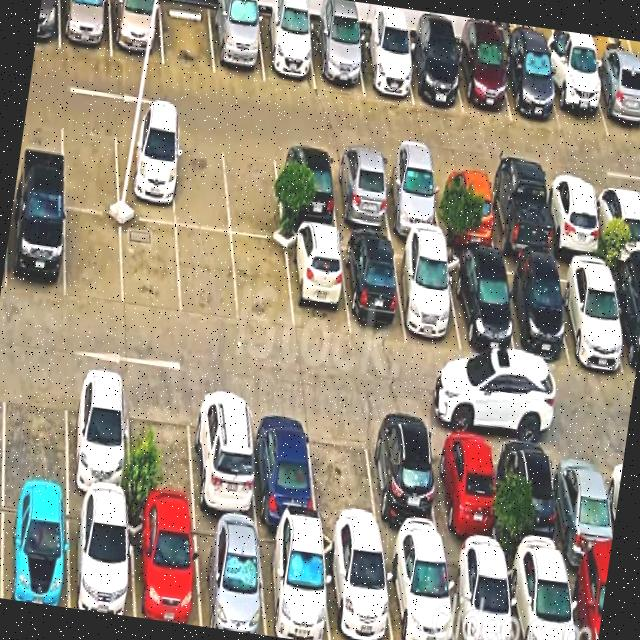empty: (308, 409, 380, 540), (128, 380, 195, 514), (4, 363, 67, 493), (223, 137, 283, 241), (177, 227, 239, 322), (122, 218, 181, 317), (232, 236, 294, 330), (62, 113, 119, 214), (173, 130, 230, 231), (66, 209, 123, 306), (160, 0, 215, 74)
occupied: (366, 417, 443, 548), (430, 423, 501, 557), (190, 389, 257, 523), (193, 516, 266, 636), (250, 399, 317, 528), (501, 431, 565, 563), (67, 370, 130, 504), (130, 507, 200, 626), (258, 526, 330, 640), (552, 438, 614, 568), (1, 490, 68, 608), (555, 261, 626, 372), (69, 497, 134, 617), (322, 534, 393, 640), (445, 253, 515, 359), (497, 259, 569, 362), (393, 243, 461, 352), (340, 235, 406, 341), (383, 545, 455, 640), (286, 229, 349, 336), (445, 550, 515, 640), (115, 122, 175, 224), (6, 196, 65, 299), (505, 557, 575, 640), (486, 172, 552, 259), (433, 165, 497, 250), (275, 145, 338, 230), (330, 151, 392, 235), (380, 157, 442, 240), (545, 57, 608, 137), (544, 178, 603, 260), (502, 47, 560, 129), (455, 42, 512, 121), (404, 39, 463, 113), (258, 14, 316, 89), (355, 32, 413, 105), (210, 6, 265, 82), (590, 62, 640, 141), (593, 183, 640, 265), (310, 25, 364, 95), (609, 267, 640, 378), (110, 0, 163, 64), (565, 564, 608, 640), (60, 0, 112, 57)
